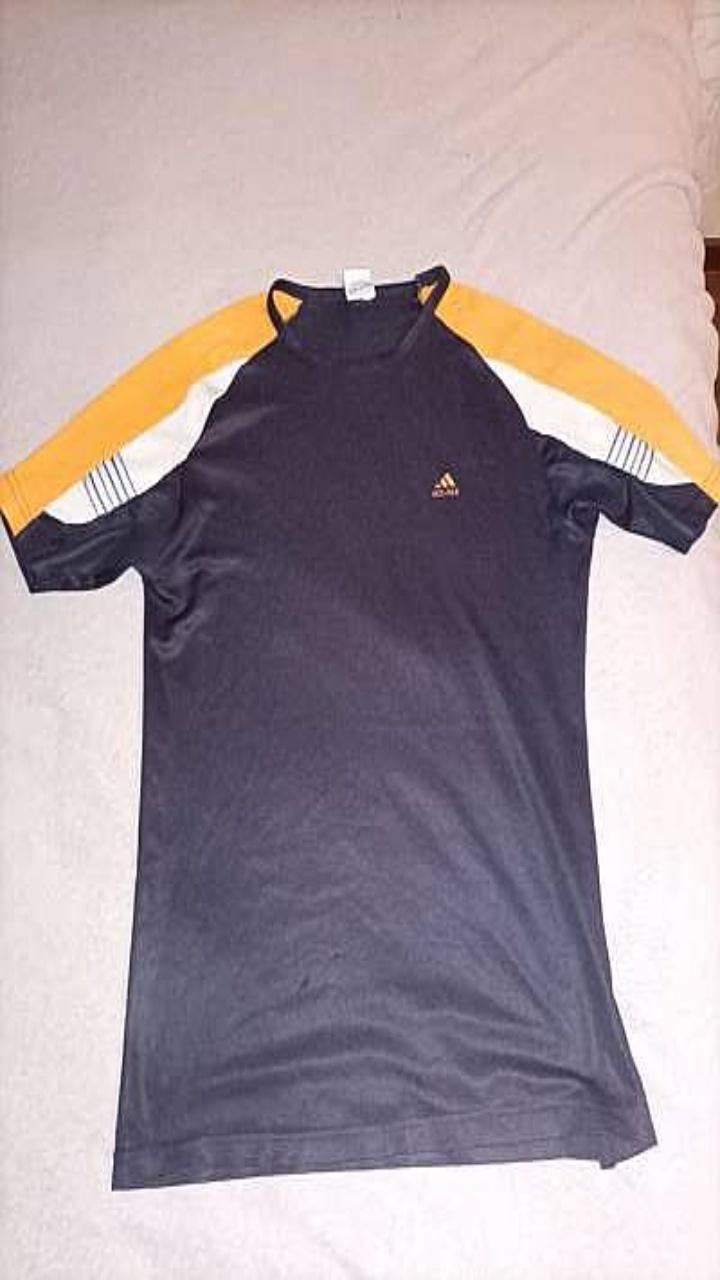T-Shirt: (0, 265, 719, 1188)
